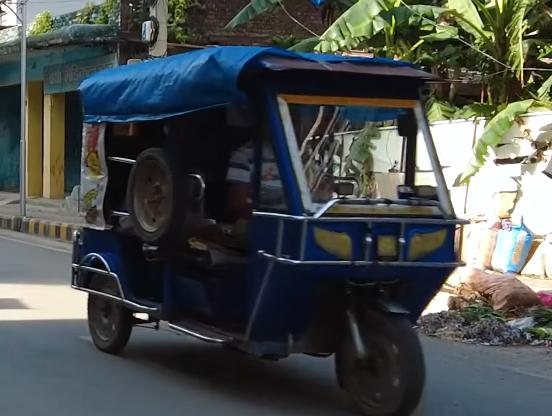e-rickshaw: (74, 37, 473, 416)
